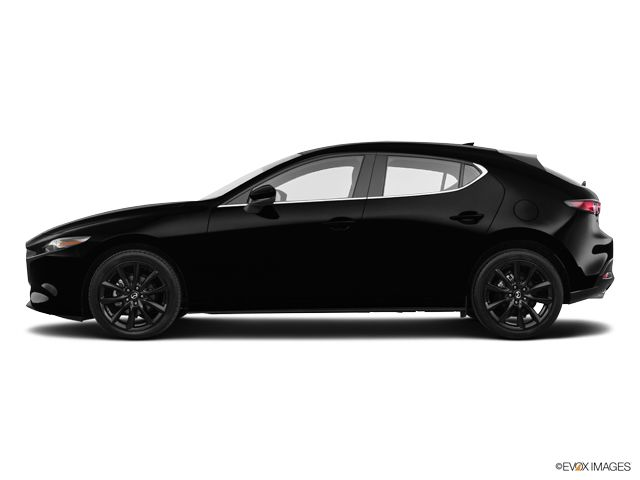Mazda3 Hatchback: (24, 140, 615, 342)
